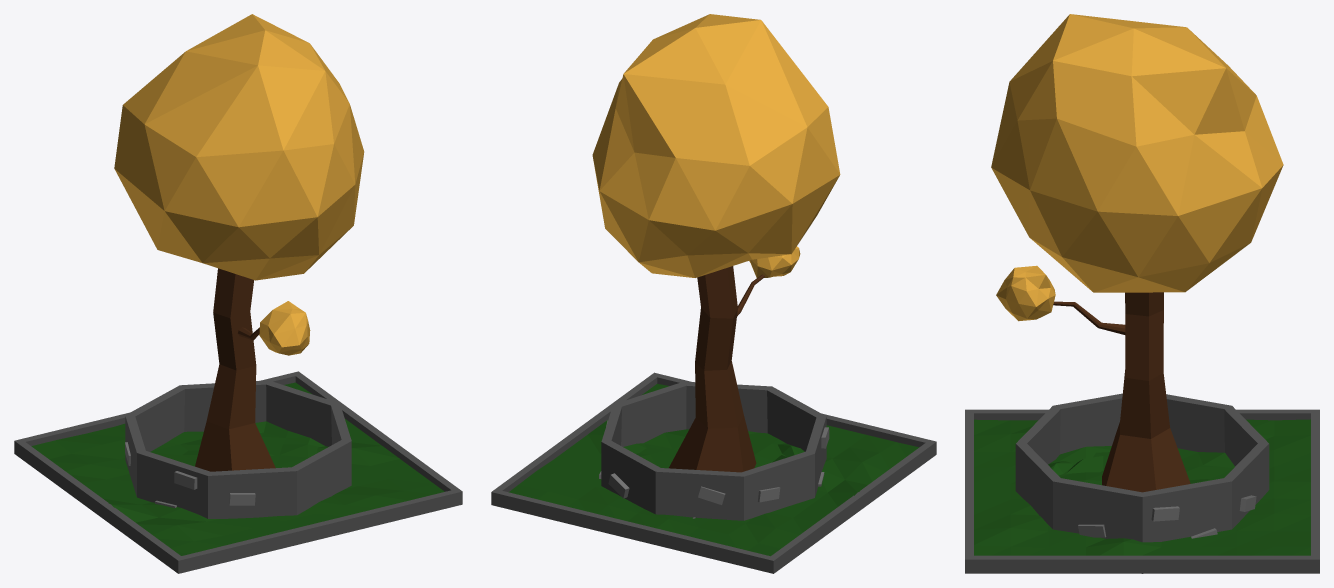
Rendered from TreePieces.fbx.
The picture shows the model from 3 angles, left to right: view 1: azimuth 30°, elevation 25°; view 2: azimuth 150°, elevation 25°; view 3: azimuth 270°, elevation 25°; orthographic projection. The views are drawn at different scales.
Visible parts, largest first — view 1: TreeLeaf, PlanterCylinder, GrassBox, PlanterBox, TreeTrunk, TreeLeafSmall, GrassCircle; view 2: TreeLeaf, PlanterCylinder, GrassBox, PlanterBox, TreeTrunk, GrassCircle, TreeLeafSmall; view 3: TreeLeaf, PlanterCylinder, GrassBox, PlanterBox, TreeTrunk, TreeLeafSmall, GrassCircle, Branch.
Part boxes in pixels (<box>): TreeLeaf: <box>114,14,364,280</box>; PlanterCylinder: <box>125,380,351,518</box>; GrassBox: <box>31,382,444,555</box>; PlanterBox: <box>14,371,462,573</box>; TreeTrunk: <box>195,268,275,471</box>; TreeLeafSmall: <box>259,301,310,355</box>; GrassCircle: <box>150,421,324,467</box>; TreeLeaf: <box>592,14,840,277</box>; PlanterCylinder: <box>599,381,829,520</box>; GrassBox: <box>509,383,918,556</box>; PlanterBox: <box>491,372,936,573</box>; TreeTrunk: <box>669,266,756,472</box>; GrassCircle: <box>635,429,804,468</box>; TreeLeafSmall: <box>749,246,800,277</box>; TreeLeaf: <box>991,14,1283,292</box>; PlanterCylinder: <box>1015,393,1269,573</box>; GrassBox: <box>974,419,1310,555</box>; PlanterBox: <box>965,409,1319,573</box>; TreeTrunk: <box>1102,292,1190,492</box>; TreeLeafSmall: <box>996,265,1055,321</box>; GrassCircle: <box>1048,452,1234,483</box>; Branch: <box>1053,301,1125,334</box>.
Bounding box in the file's own units: 777 × 1218 × 777.
